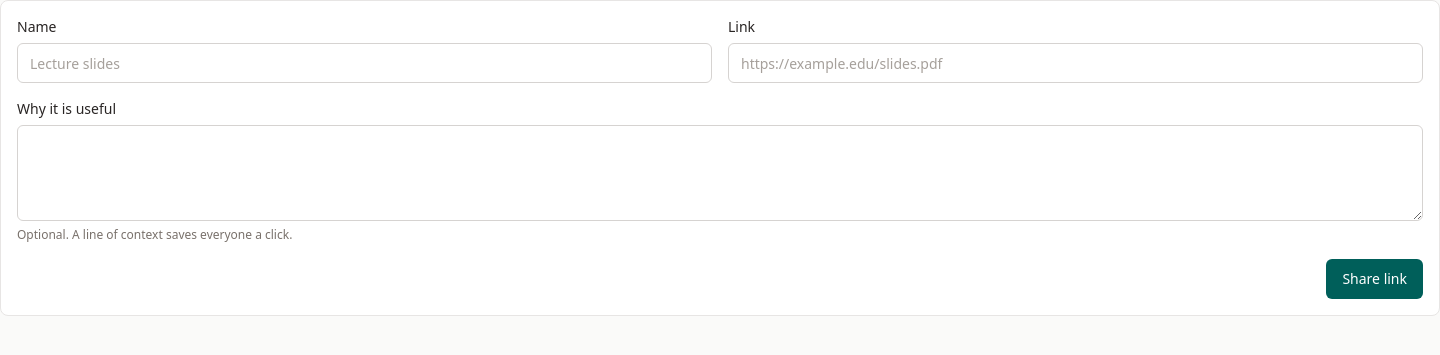
Test: ResourceForm › asks for the full address when the scheme is missing
The image size is (1440, 355).
Type "Notes" into the field labelled "Name" at (364, 63), box [17,43,712,83]
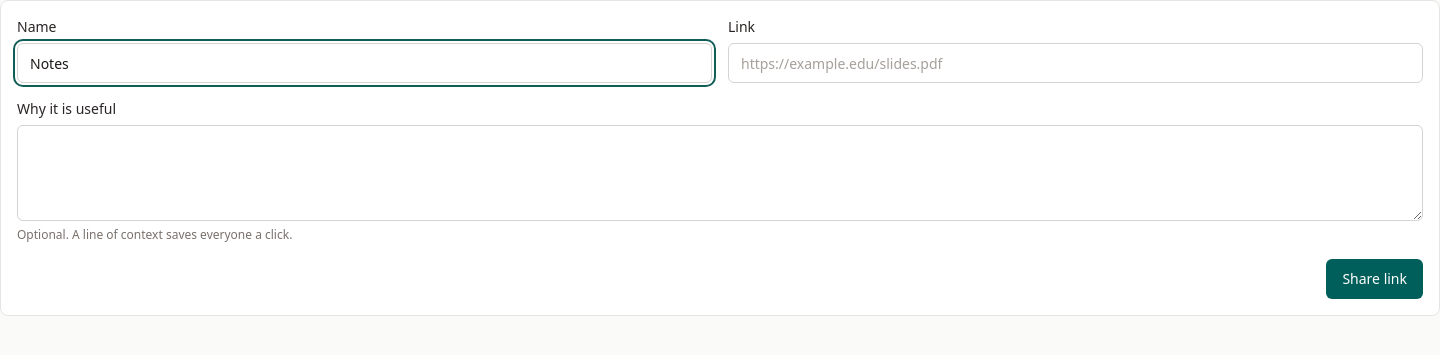
Type "example.edu/notes" into the field labelled "Link" at (1076, 63), box [728,43,1423,83]
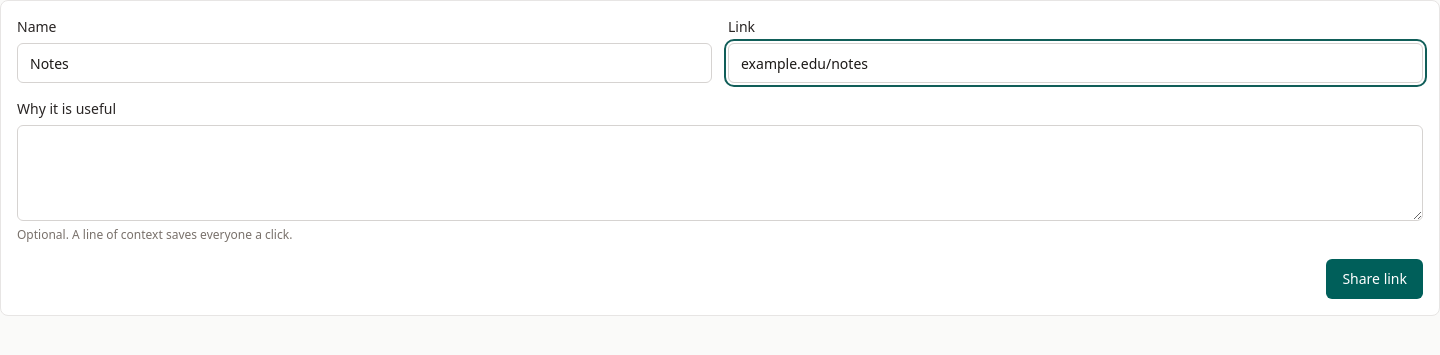
Click the button "Share link" at (1375, 279), box [1326,259,1423,299]
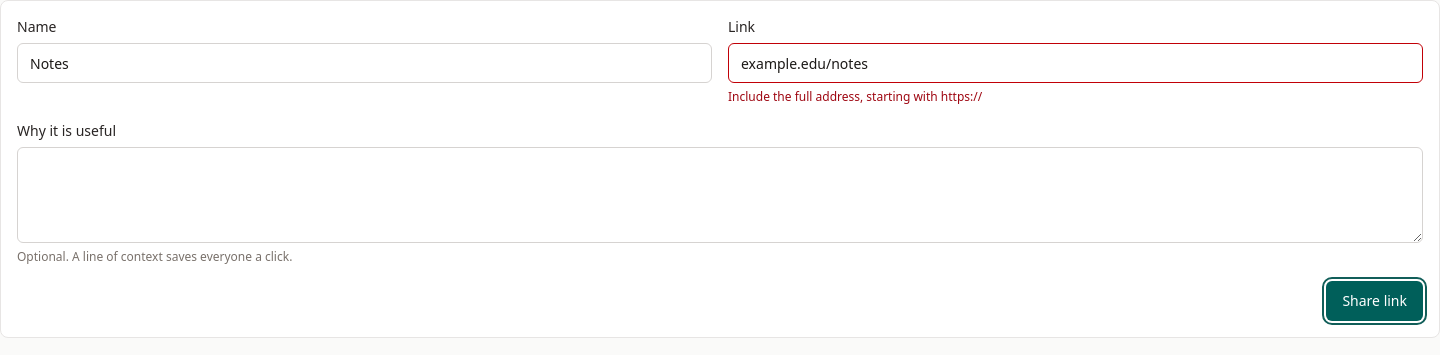
Result: the text "Include the full address, starting with https://" is shown at [728,88,982,105]
